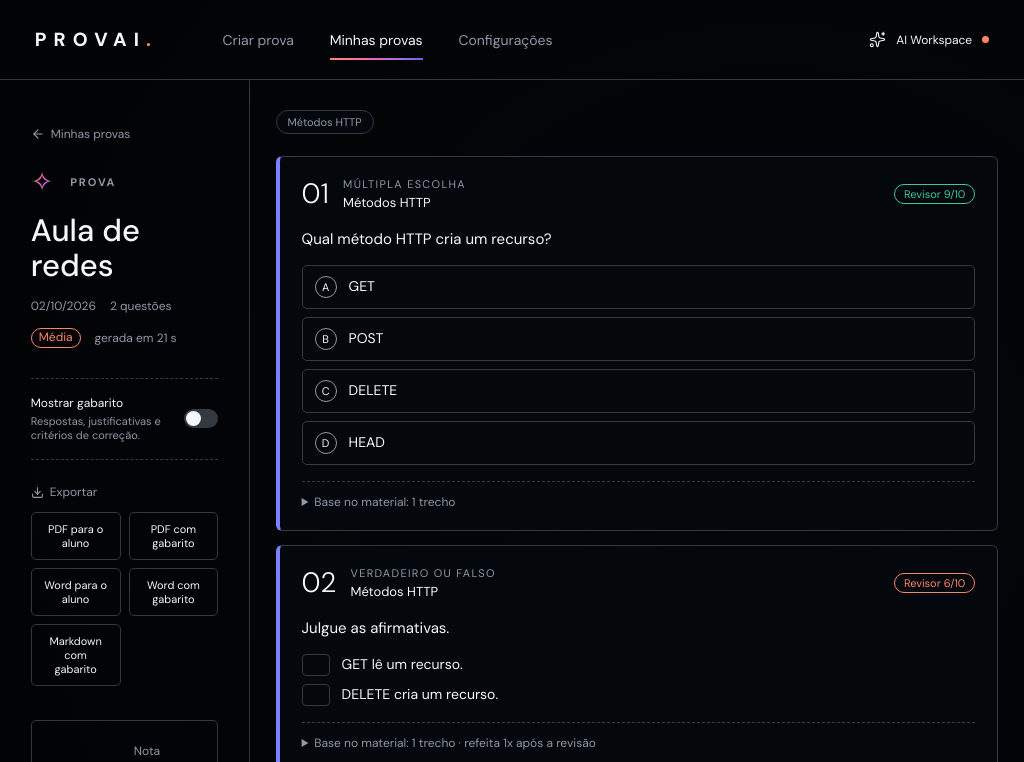
Visualizar prova › esconde o gabarito até ser pedido e mostra fontes e revisão
The image size is (1024, 762).
expect the text "Qual método HTTP cria um recurso?" is shown: met, box 302,229 -> 552,249
expect the text "Resposta correta: B" is not shown: met
Click the switch named "Mostrar gabarito".
click(201, 419)  # box 184,410 -> 218,428
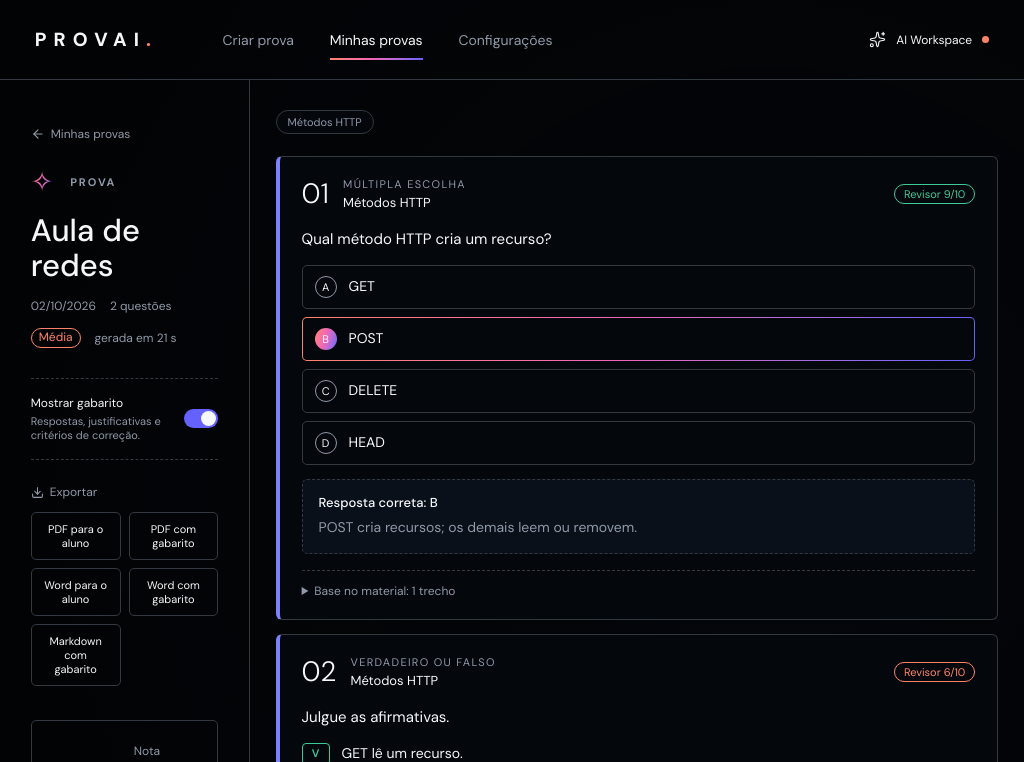
expect the text "Resposta correta: B" is shown: met, box 319,494 -> 438,511
expect the text "POST cria recursos; os demais leem ou removem." is shown: met, box 319,518 -> 637,536
